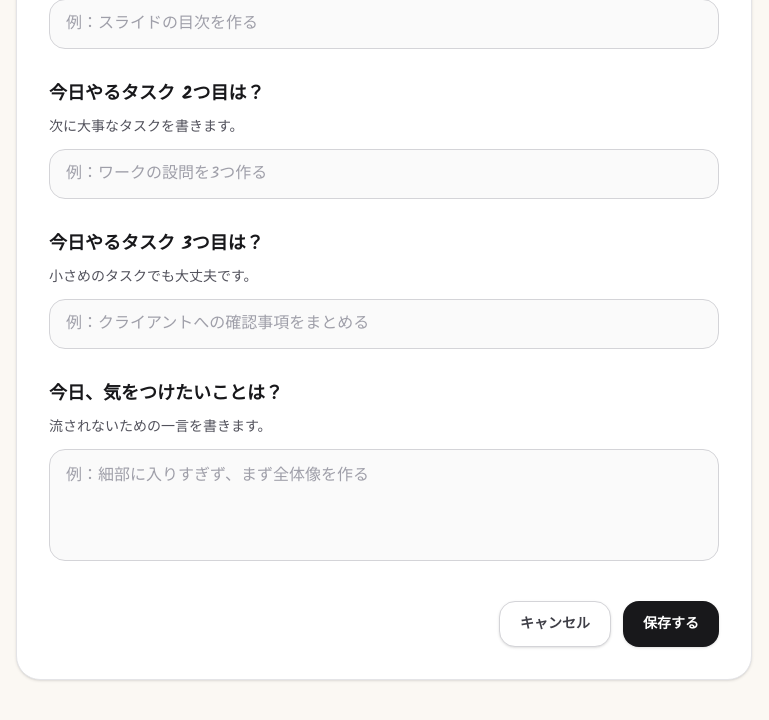
it: EditClient › shows error message when updateFlowRecord fails
The image size is (769, 720).
(page scrolled)
Click the button "保存する": point(671, 624) [623, 601, 719, 647]
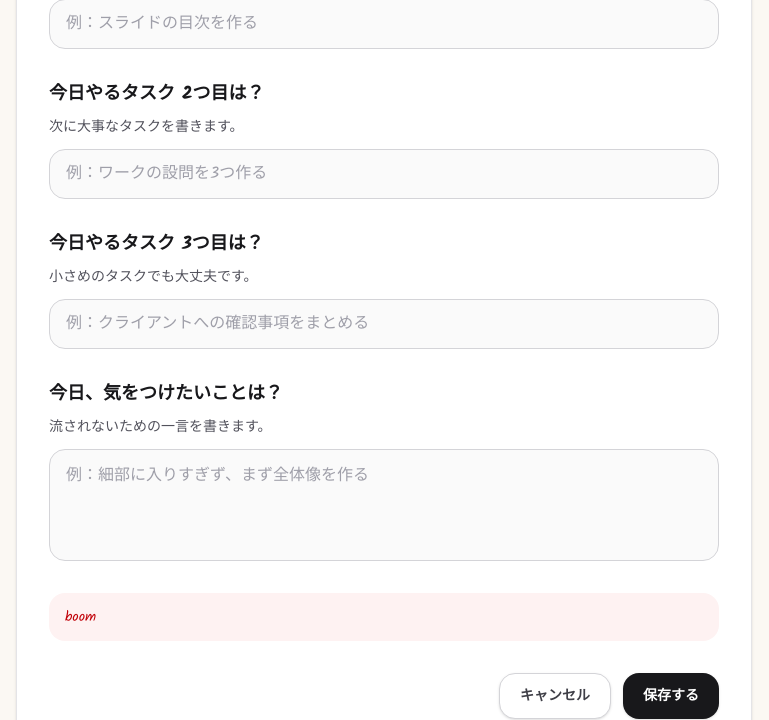
Check: the message reads "boom", box [65, 606, 96, 628]
